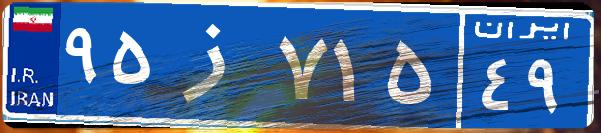1: (330, 28, 385, 110)
4: (475, 38, 525, 113)
5: (385, 28, 445, 110), (110, 28, 158, 105)
7: (273, 28, 330, 110)
9: (57, 26, 110, 107), (525, 38, 570, 115)
ز: (158, 15, 273, 115)
